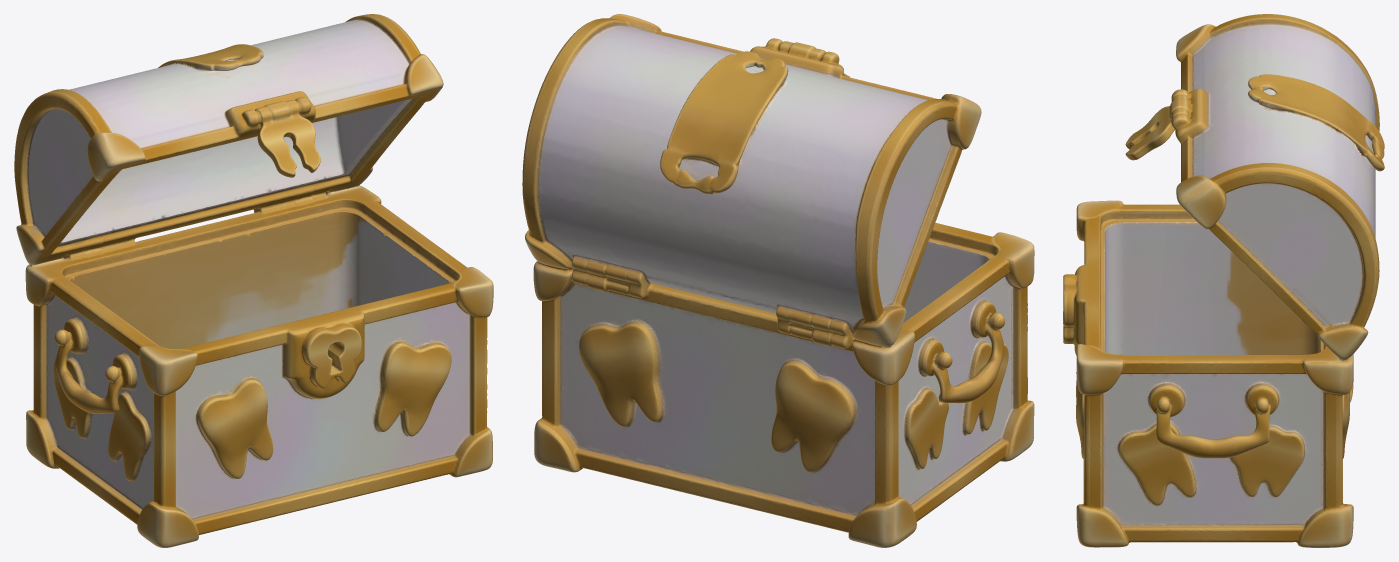
File: AmmoChestOpen.glb
3 views of the same model, side by side, from view 1: azimuth 30°, elevation 25°; view 2: azimuth 150°, elevation 25°; view 3: azimuth 270°, elevation 25° (orthographic). The views are drawn at different scales.
Size of the model in its own units: 1.9 by 1.87 by 1.42.
1 material, 1 textured.
